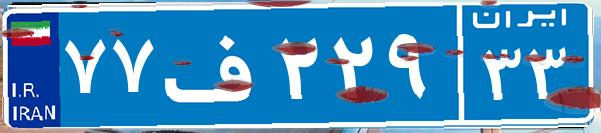2: (273, 28, 330, 110), (330, 28, 385, 110)
3: (475, 38, 525, 113), (525, 38, 570, 115)
7: (57, 26, 110, 107), (110, 28, 158, 105)
9: (385, 28, 445, 110)
ف: (158, 15, 273, 115)
